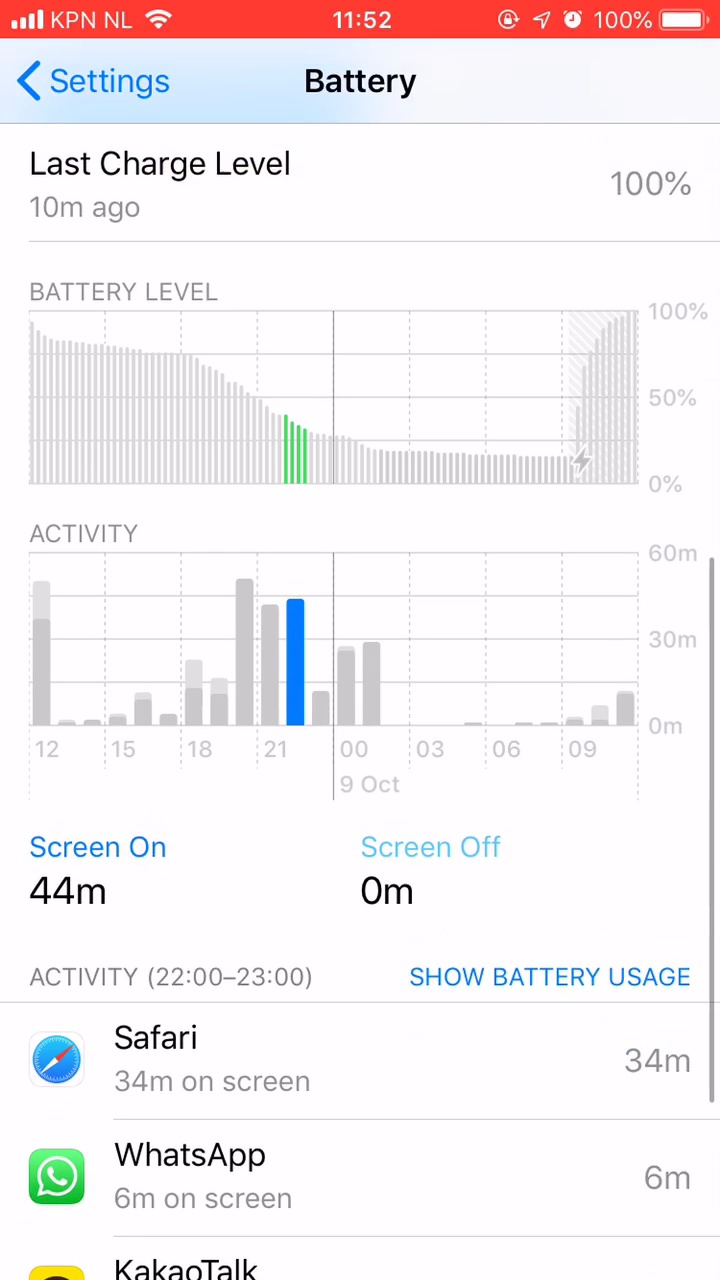activity: (30, 950, 331, 996)
app: (30, 1019, 698, 1101), (26, 1140, 694, 1222)
